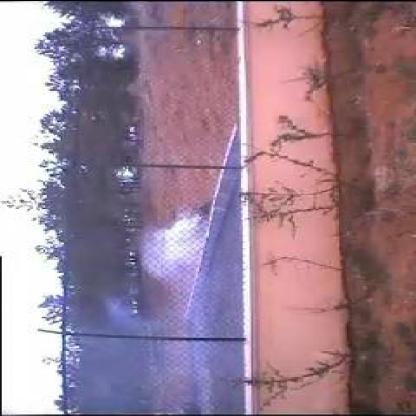-: (104, 205, 242, 340)
